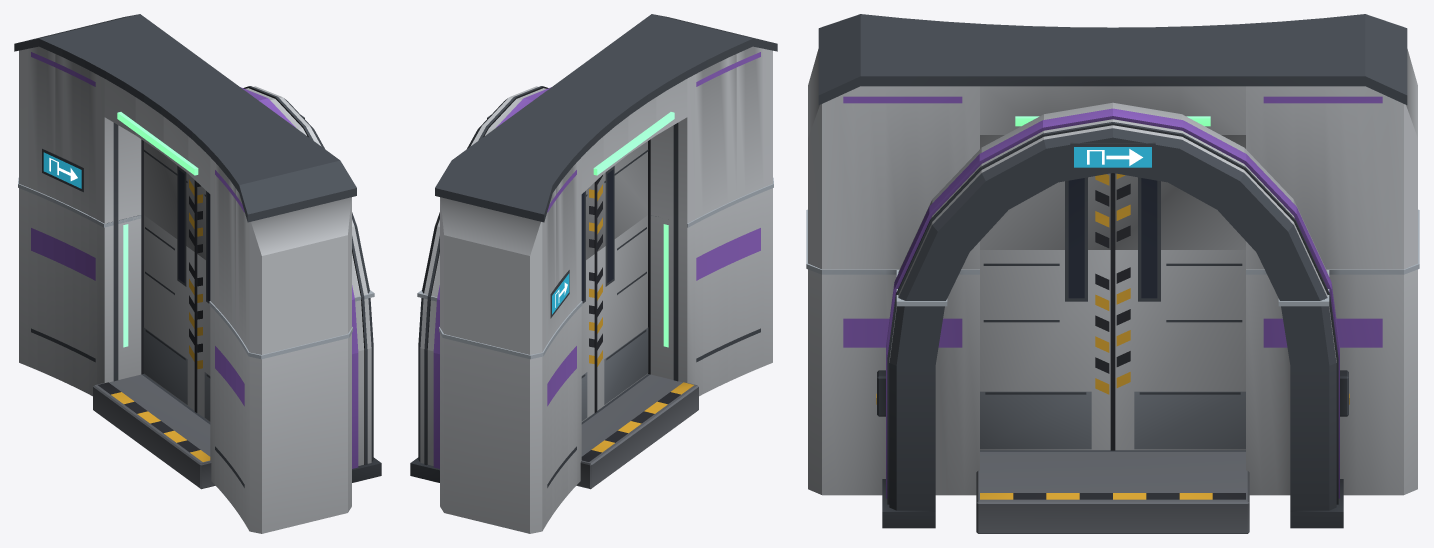
Rendered from doorway_flat_r625.glb.
3 renders of one model, left to right at view 1: azimuth 30°, elevation 25°; view 2: azimuth 150°, elevation 25°; view 3: azimuth 270°, elevation 25°, orthographic. The views are drawn at different scales.
Parts seen in each view (by area): view 1: FrameTop, Frame, DoorR, DoorRTop, DoorL, FrameCap, DoorLTop, Sign, Status, Lights; view 2: FrameTop, Frame, DoorL, DoorLTop, DoorR, FrameCap, DoorRTop, Status, Lights, Sign; view 3: FrameTop, Frame, DoorL, DoorR, DoorLTop, DoorRTop, Sign, FrameCap.
Boxes of the visible parts, x1,y1,x2,y2 form: FrameTop: (14, 14, 369, 354); Frame: (19, 188, 381, 533); DoorR: (143, 215, 195, 411); DoorRTop: (143, 141, 195, 253); DoorL: (195, 254, 210, 421); FrameCap: (18, 177, 374, 359); DoorLTop: (195, 181, 210, 263); Sign: (42, 115, 304, 192); Status: (117, 112, 198, 175); Lights: (123, 224, 128, 347); FrameTop: (422, 14, 777, 354); Frame: (410, 188, 772, 533); DoorL: (596, 215, 648, 411); DoorLTop: (596, 141, 648, 253); DoorR: (581, 254, 596, 421); FrameCap: (417, 177, 773, 359); DoorRTop: (581, 181, 596, 263); Status: (593, 112, 674, 175); Lights: (663, 224, 668, 347); Sign: (487, 115, 569, 318); FrameTop: (808, 14, 1417, 300); Frame: (808, 269, 1417, 533); DoorL: (980, 250, 1112, 450); DoorR: (1113, 250, 1245, 450); DoorLTop: (980, 135, 1112, 250); DoorRTop: (1113, 135, 1245, 250); Sign: (1070, 142, 1155, 170); FrameCap: (806, 209, 1419, 306).
Bounding box in the file's own units: 1.31 × 2.67 × 3.46.
